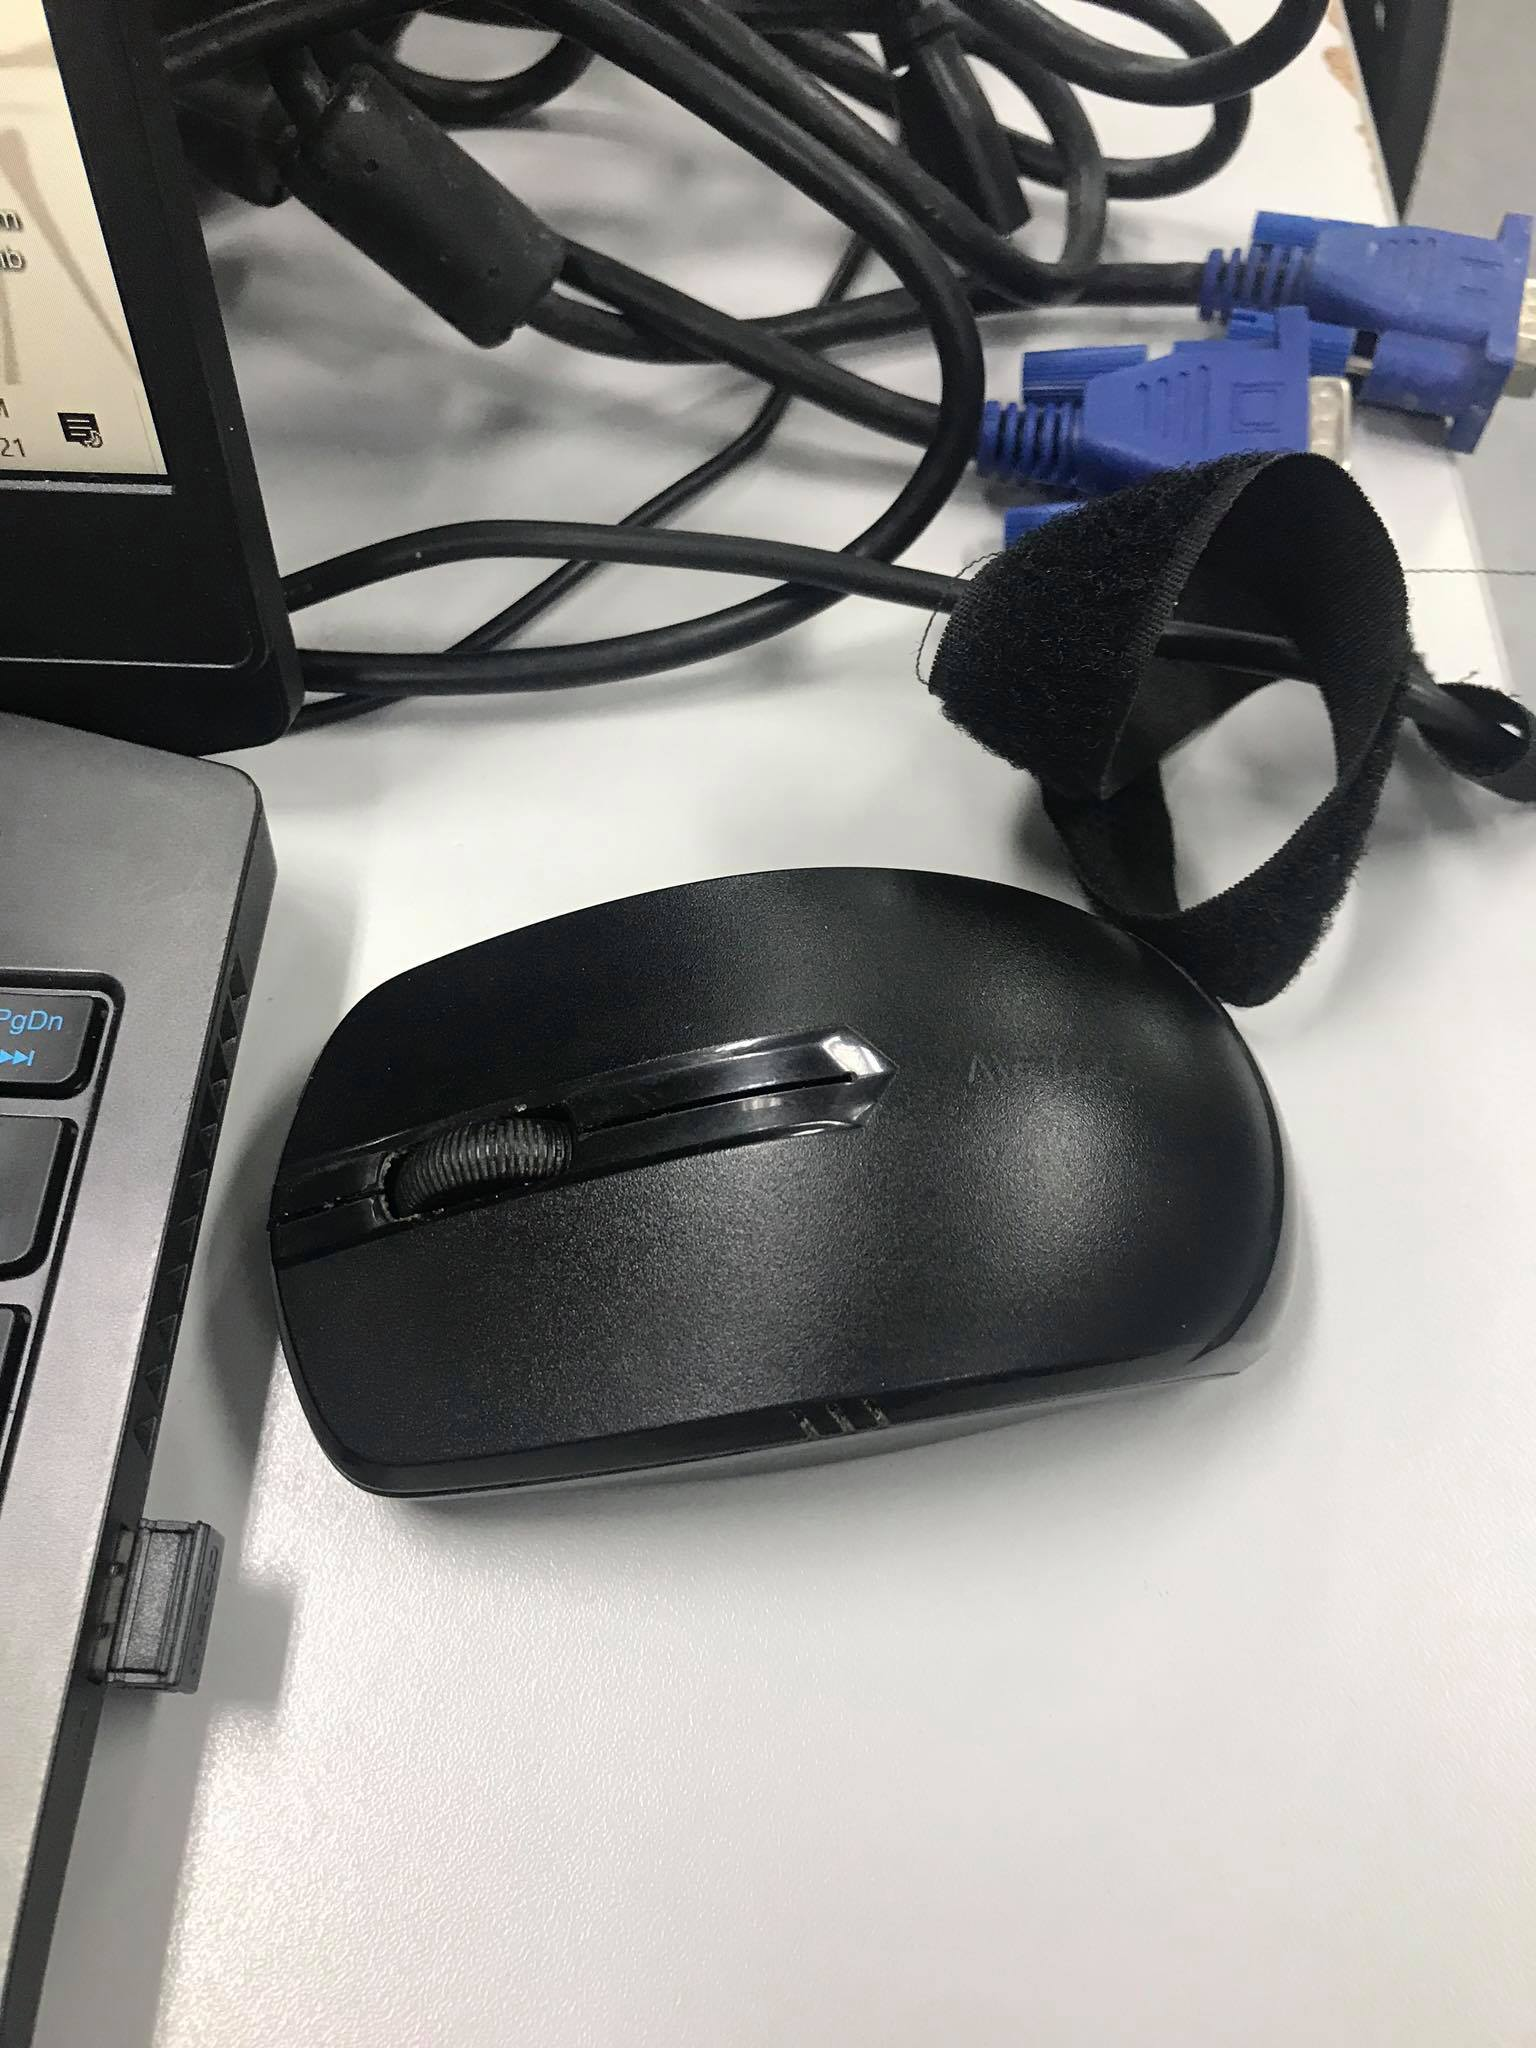mouse: (274, 851, 1292, 1608)
